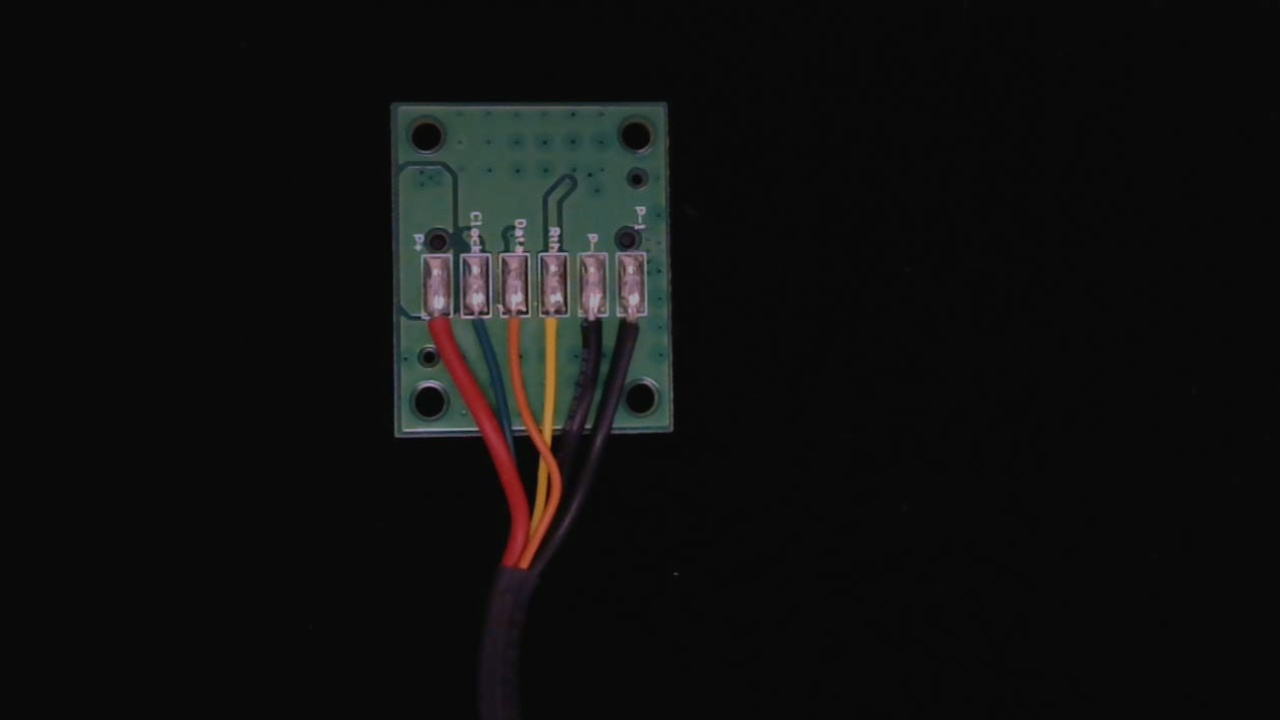Black: (575, 301, 611, 365)
Black1: (618, 301, 649, 357)
Green: (462, 299, 497, 356)
Orange: (499, 298, 532, 359)
Red: (421, 304, 455, 363)
Yellow: (537, 301, 569, 363)
